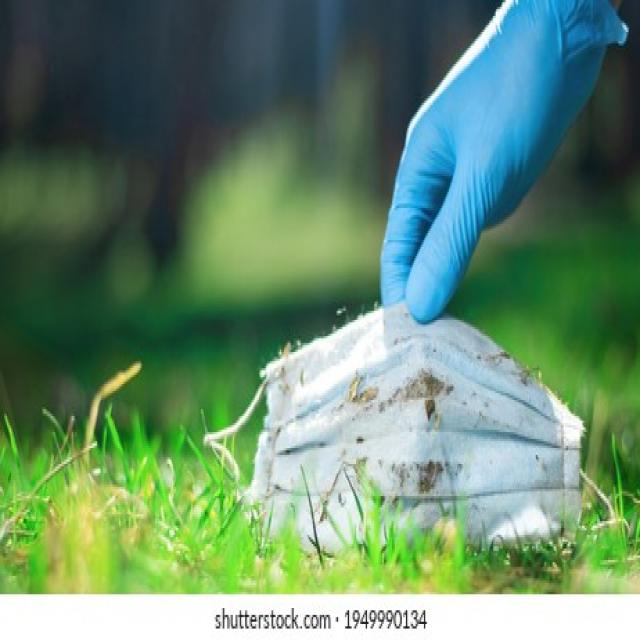non-organic waste: (227, 311, 600, 571)
